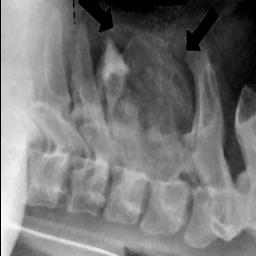cancer: (108, 38, 198, 177)
